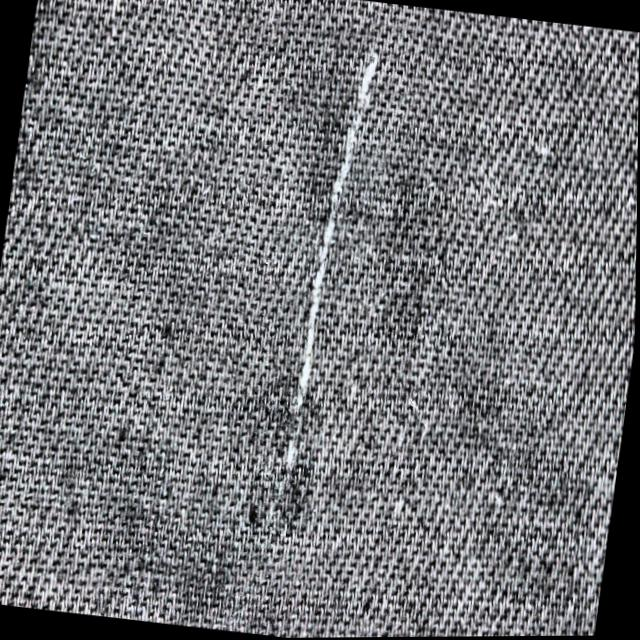Hole: (285, 51, 378, 479)
